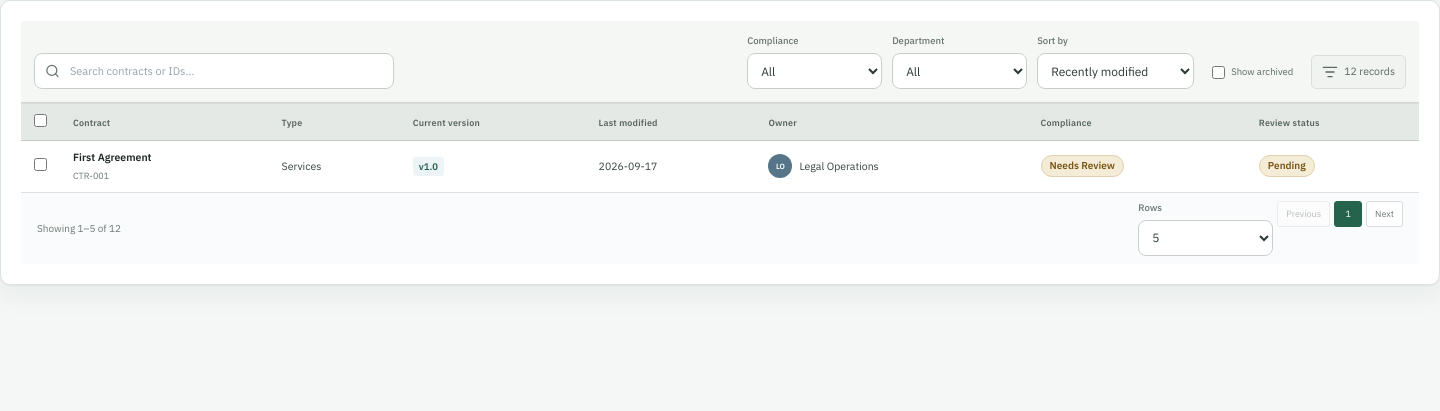
Test: ContractRegister › keeps the visible-page selection when an atomic bulk action fails
The width and height of the screenshot is (1440, 411).
Click the checkbox named "Select First Agreement" at x=40, y=164, box 34,158 -> 47,170
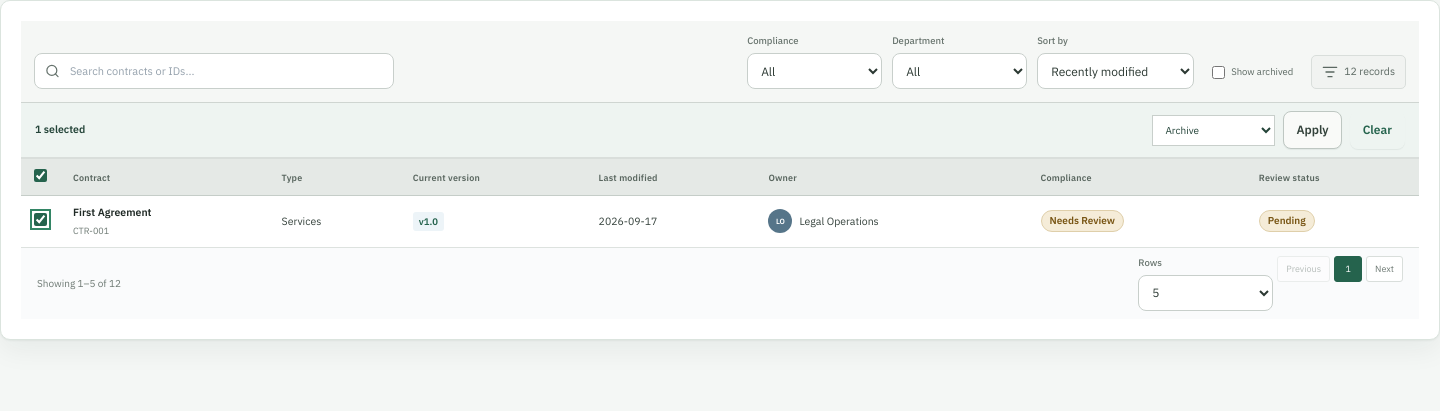
Click the button "Apply" at x=1312, y=130, box 1283,111 -> 1342,149
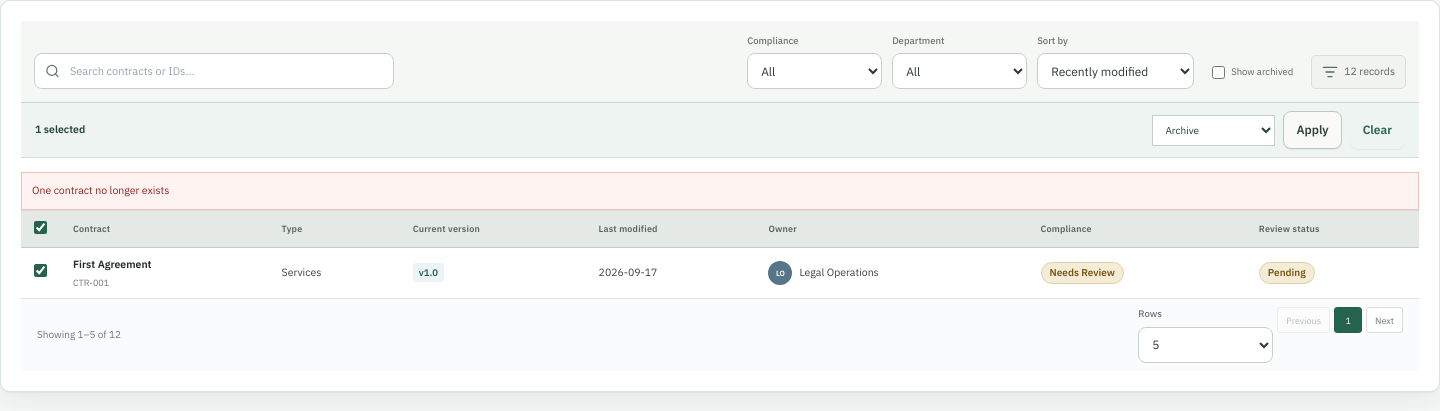
Expected: the checkbox named "Select First Agreement" is checked, 34,264 -> 47,277
Expected: the text "1 selected" is shown, 35,122 -> 85,138
Expected: the message reads "One contract no longer exists", 32,183 -> 169,197
